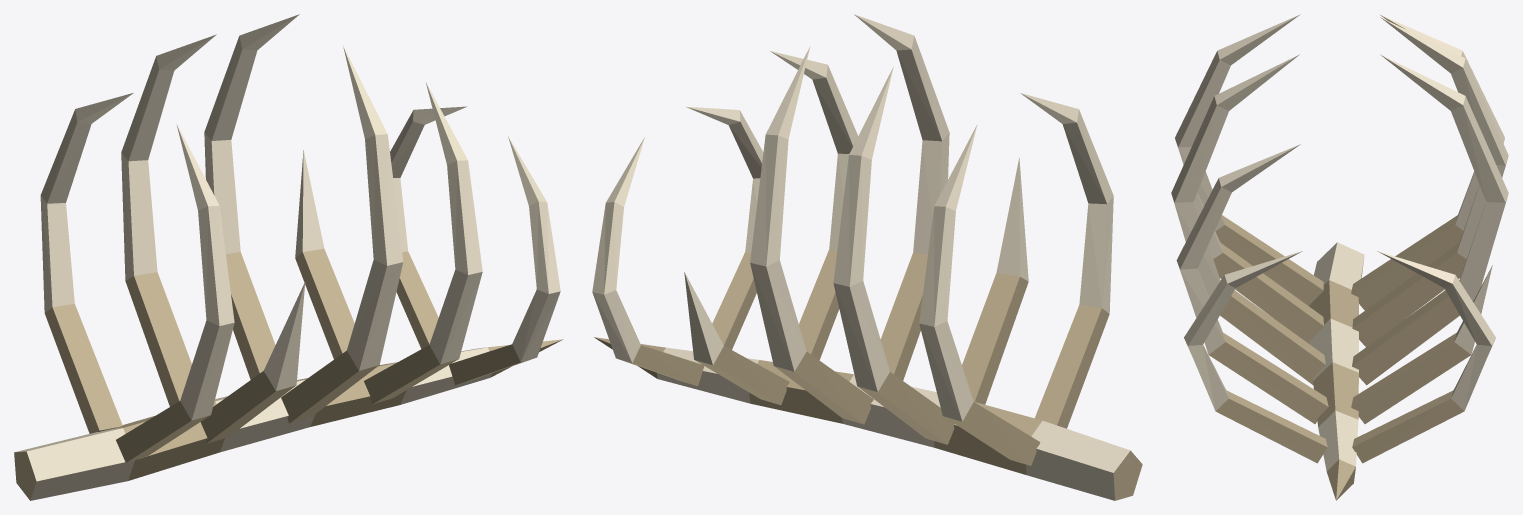
Rendered from bone_ribs.fbx.
3 views of the same model, side by side, from view 1: azimuth 30°, elevation 25°; view 2: azimuth 150°, elevation 25°; view 3: azimuth 270°, elevation 25° (orthographic). The views are drawn at different scales.
Visible parts, largest first — view 1: bone_ribs; view 2: bone_ribs; view 3: bone_ribs.
Boxes of the visible parts, bbox=[...] form: bone_ribs: bbox=[14, 14, 563, 500]; bone_ribs: bbox=[592, 14, 1142, 500]; bone_ribs: bbox=[1171, 14, 1508, 500].
Size of the model in its own units: 2910 by 2048 by 1714.
Materials: 1 (1 with a texture image).
